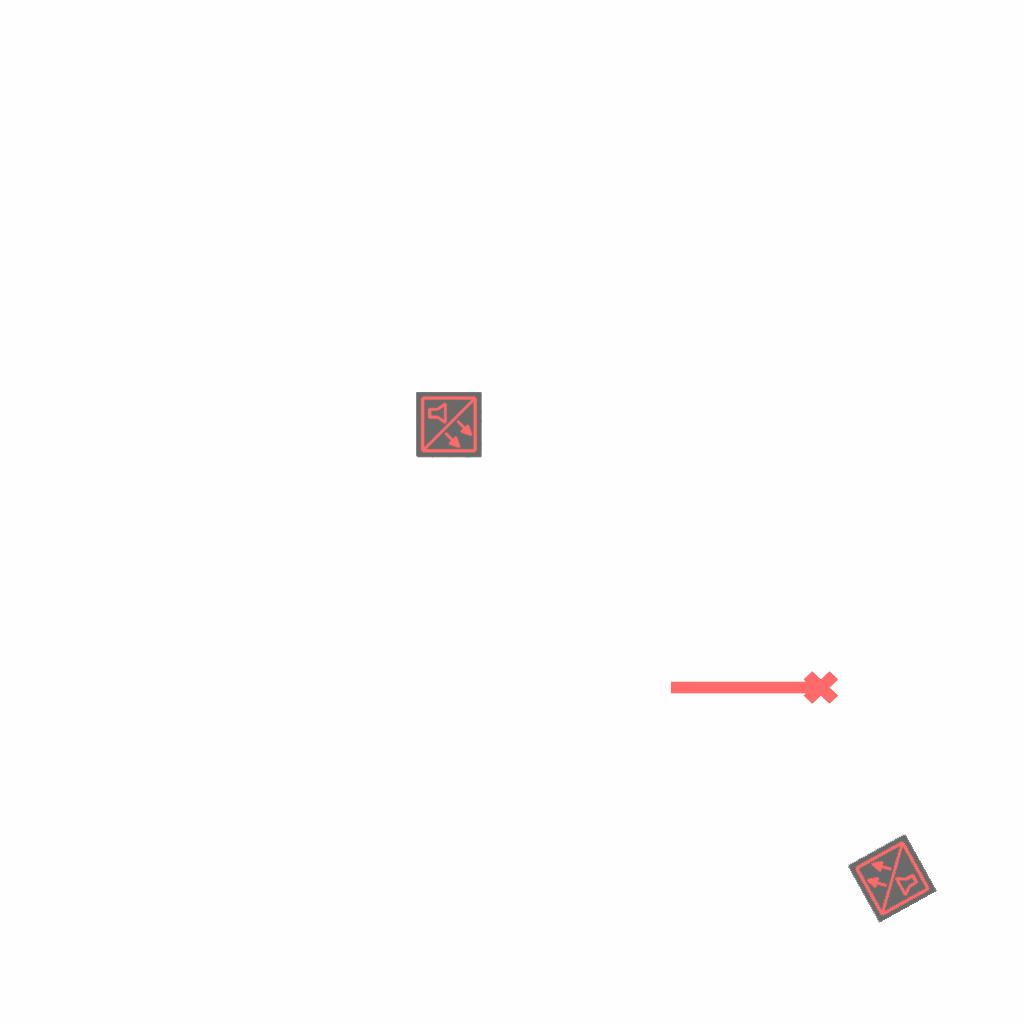ASR_Ansaugoeffnung: (665, 667, 841, 713)
OKW_Multisensormelder_(Kombination_optischer_Rauch-Kahlenmonoxid_Waerme-Melder): (847, 833, 937, 923), (416, 392, 482, 458)
